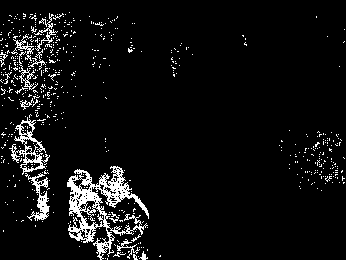person: (97, 166, 150, 260), (11, 118, 51, 221), (66, 166, 108, 260)
